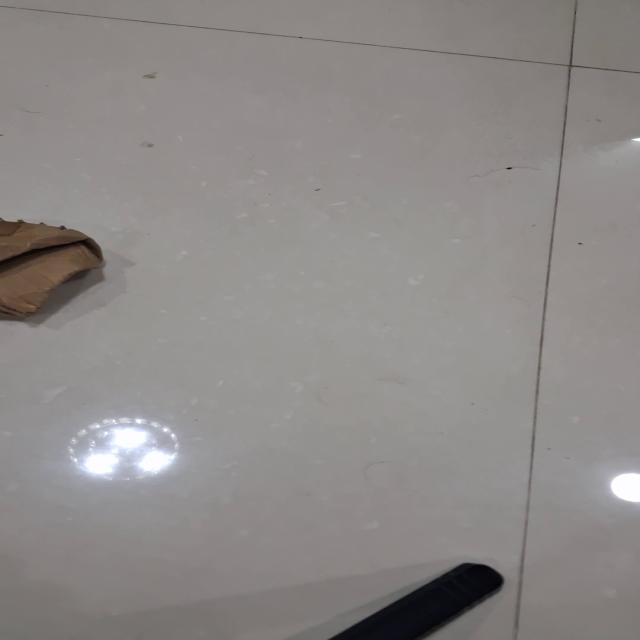paper: (2, 1, 636, 639), (0, 217, 104, 319)
